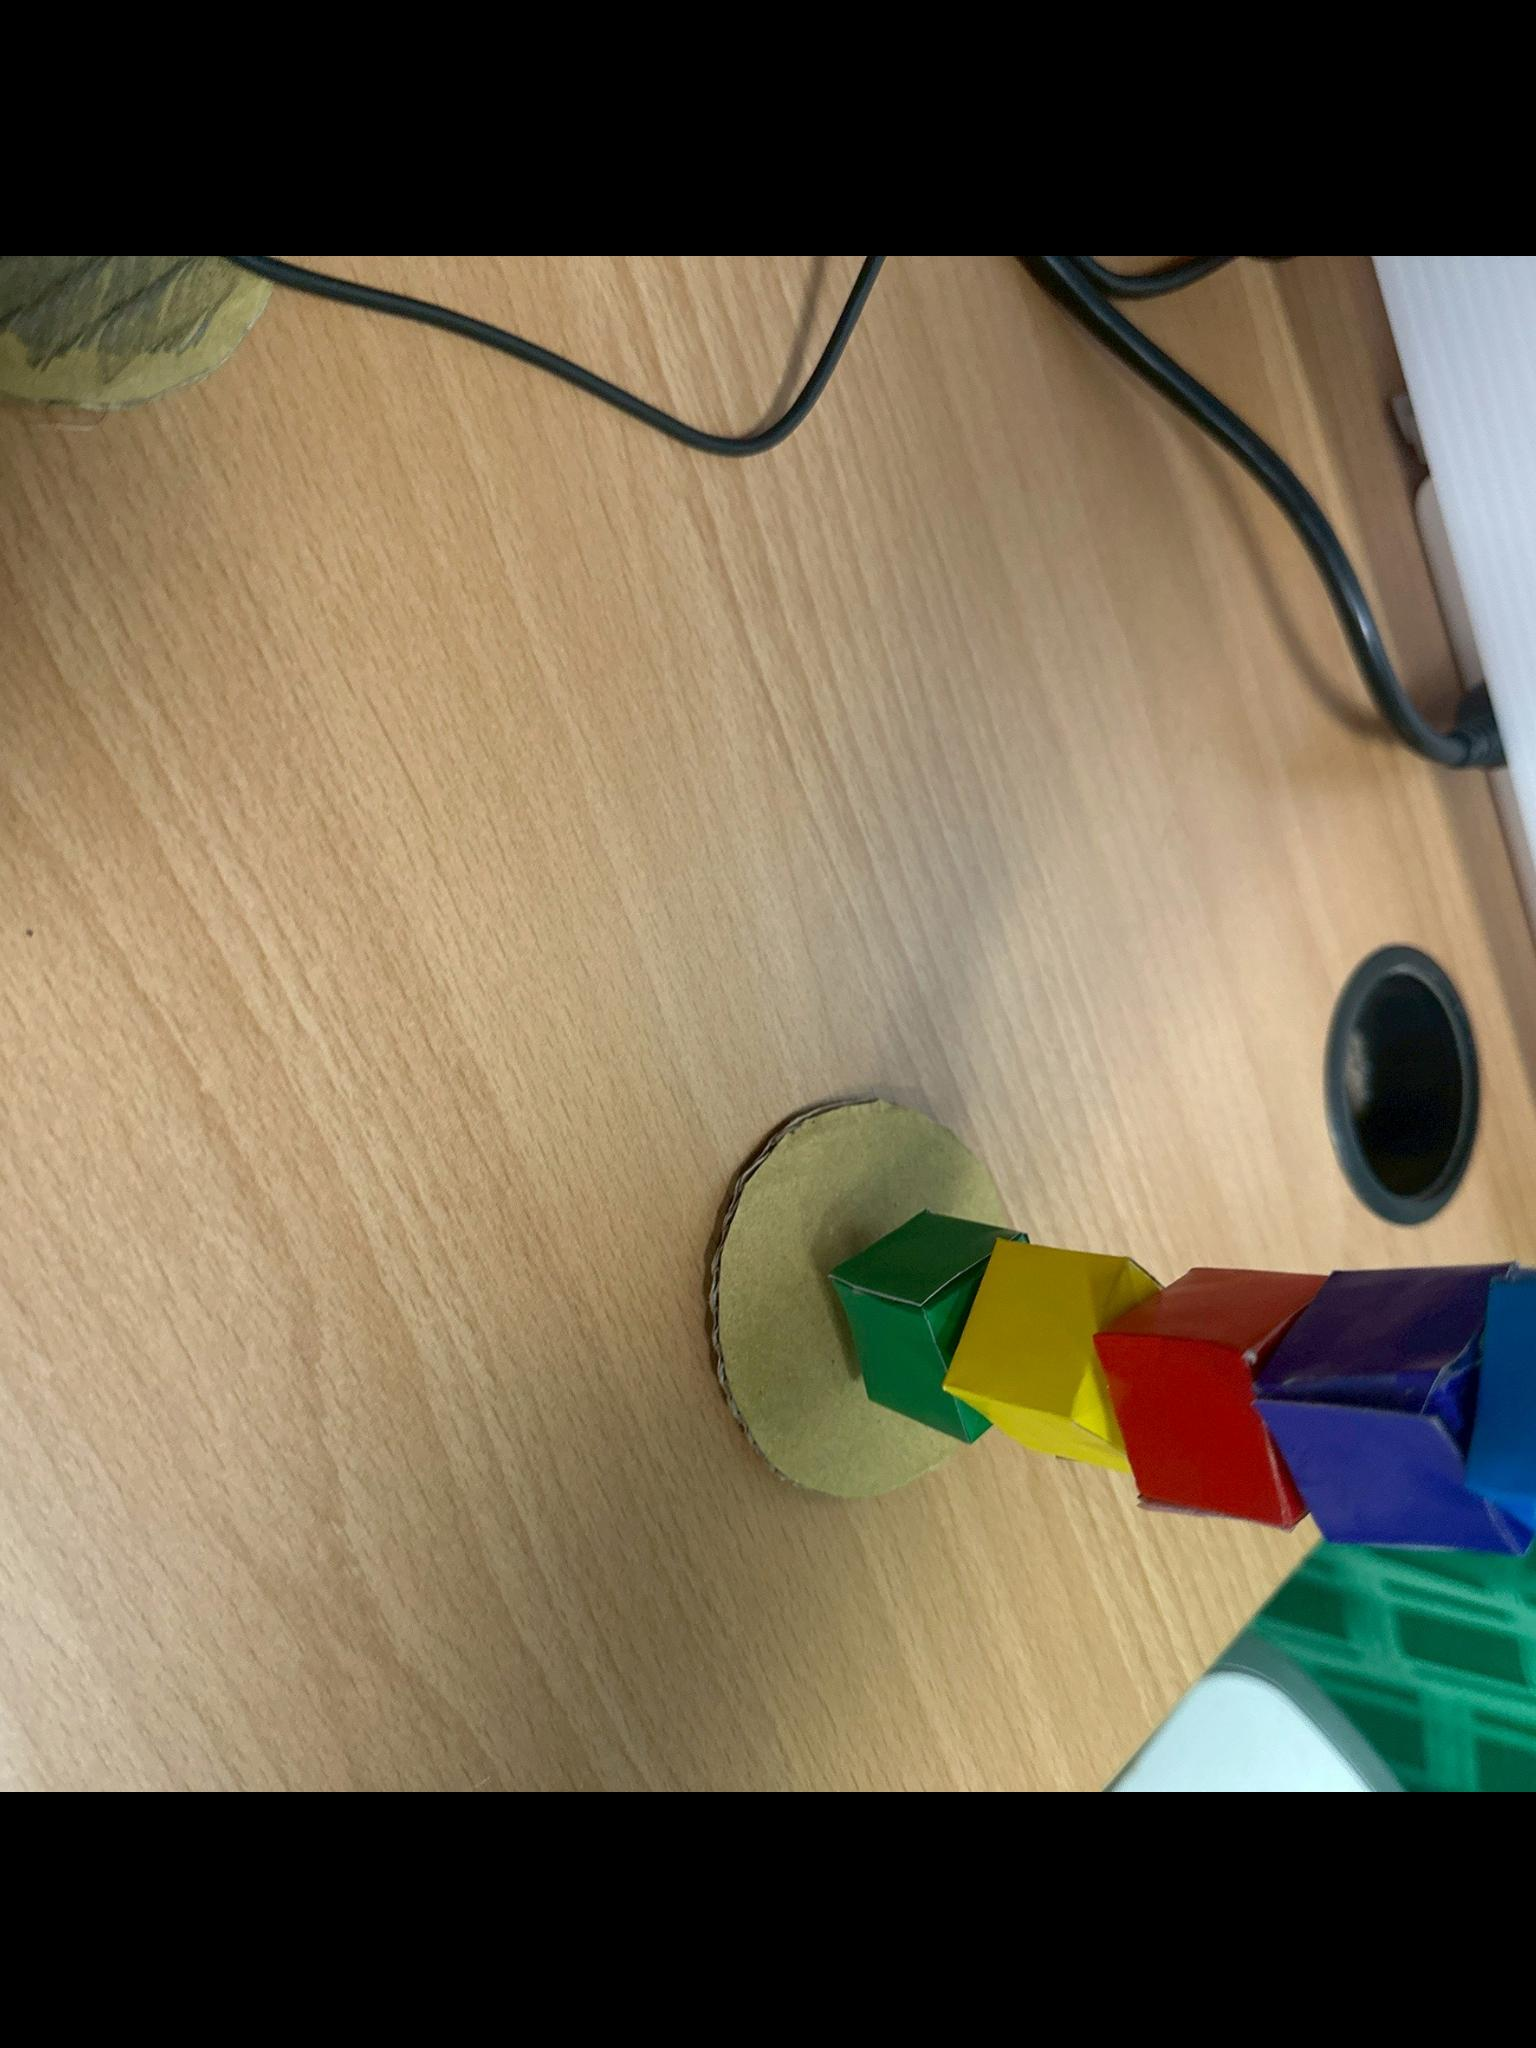base: (713, 1101, 1008, 1498)
